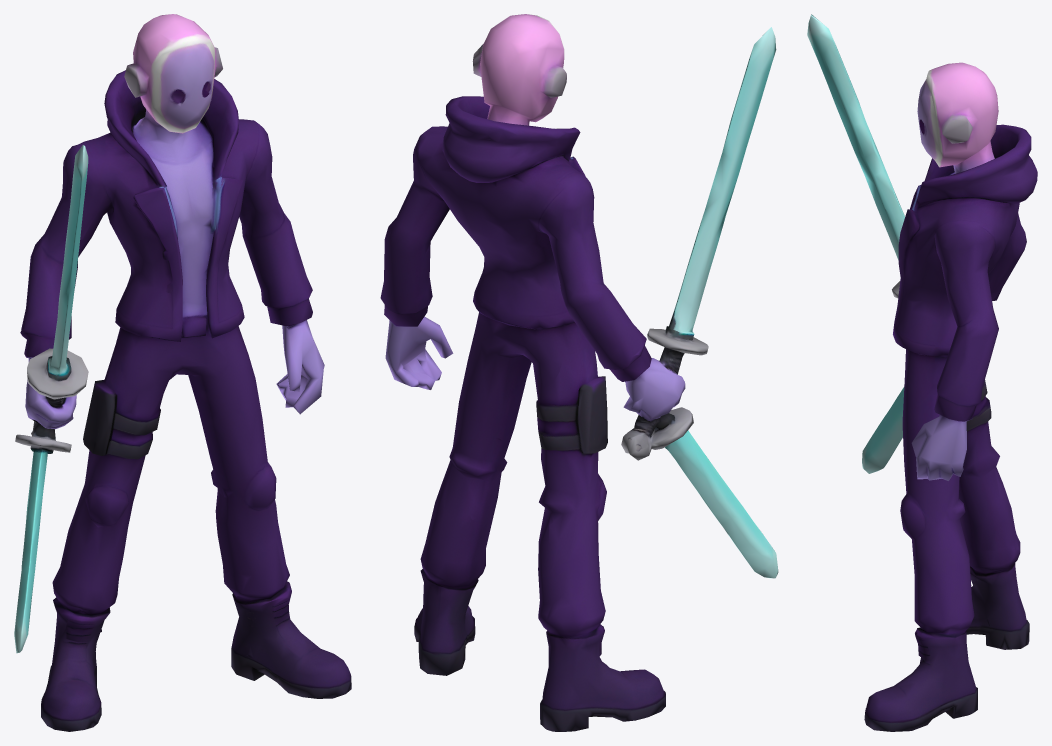
File: neonw.glb
3 views of the same model, side by side, from view 1: azimuth 30°, elevation 25°; view 2: azimuth 150°, elevation 25°; view 3: azimuth 270°, elevation 25° (orthographic). The views are drawn at different scales.
Visible parts, largest first — view 1: tripo_node_9f5c9af3-4d62-4199-bf5a-84310015a1ff; view 2: tripo_node_9f5c9af3-4d62-4199-bf5a-84310015a1ff; view 3: tripo_node_9f5c9af3-4d62-4199-bf5a-84310015a1ff.
Boxes of the visible parts, left/top/right/bottom form: tripo_node_9f5c9af3-4d62-4199-bf5a-84310015a1ff: left=14, top=14, right=351, bottom=731; tripo_node_9f5c9af3-4d62-4199-bf5a-84310015a1ff: left=380, top=14, right=778, bottom=731; tripo_node_9f5c9af3-4d62-4199-bf5a-84310015a1ff: left=807, top=14, right=1037, bottom=731.
Size of the model in its own units: 0.5373 by 1 by 0.3442.
Materials: 1 (1 with a texture image).
